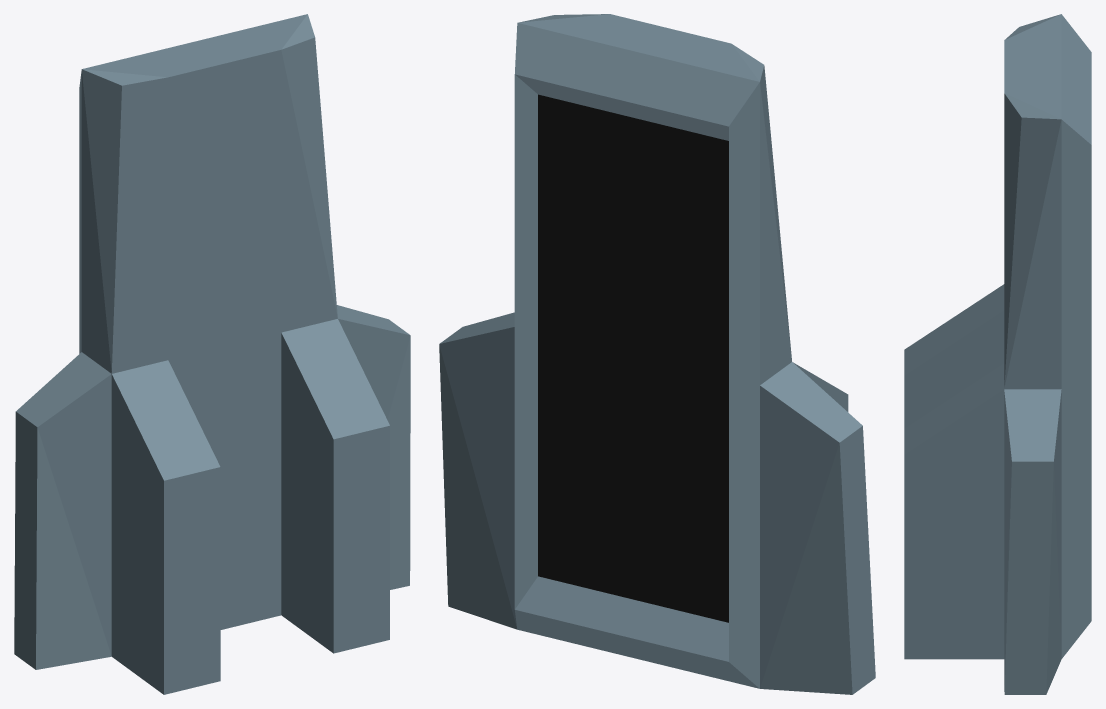
Rendered from CountdownScreen.obj.
3 renders of one model, left to right at view 1: azimuth 30°, elevation 25°; view 2: azimuth 150°, elevation 25°; view 3: azimuth 270°, elevation 25°, orthographic. The views are drawn at different scales.
Visible parts, largest first — view 1: group668425043; view 2: group668425043; view 3: group668425043.
Part boxes in pixels (x1=…): group668425043: x1=14, y1=14, x2=410, y2=694; group668425043: x1=439, y1=14, x2=875, y2=694; group668425043: x1=904, y1=14, x2=1091, y2=694.
Bounding box in the file's own units: 1.68 × 2.4 × 0.75.
